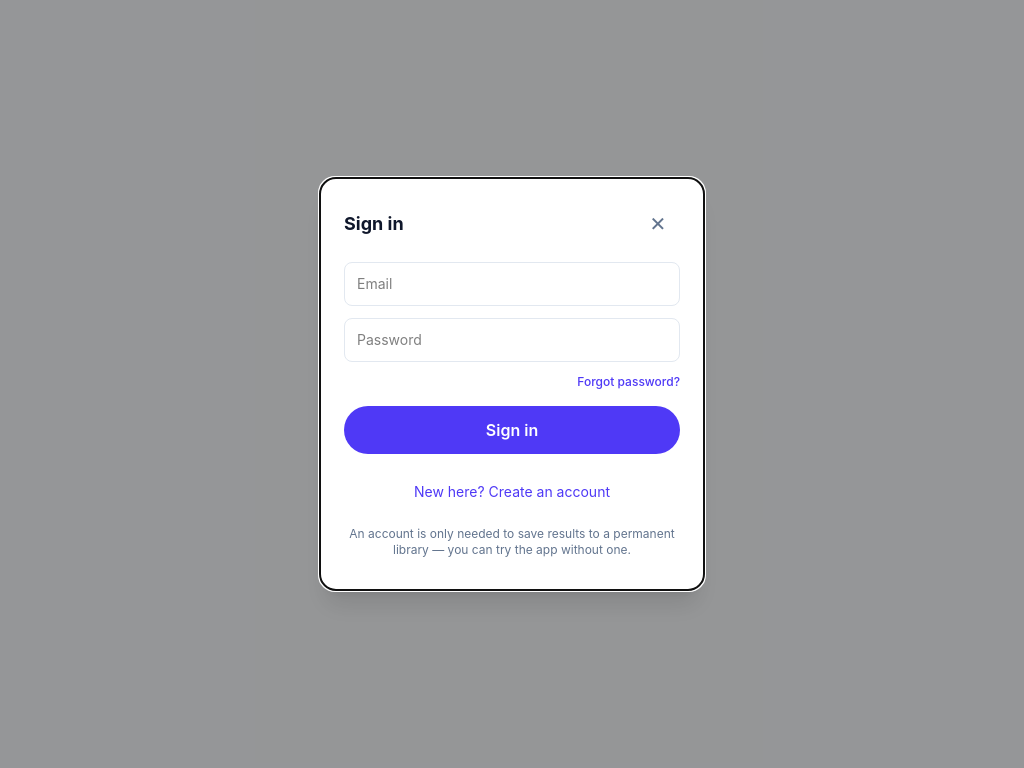
Scenario: AuthModal — forgot password › submits the email and shows a generic confirmation, never claiming whether the account exists
Click the button "Forgot password?" at (629, 382), box 577,374 -> 680,390
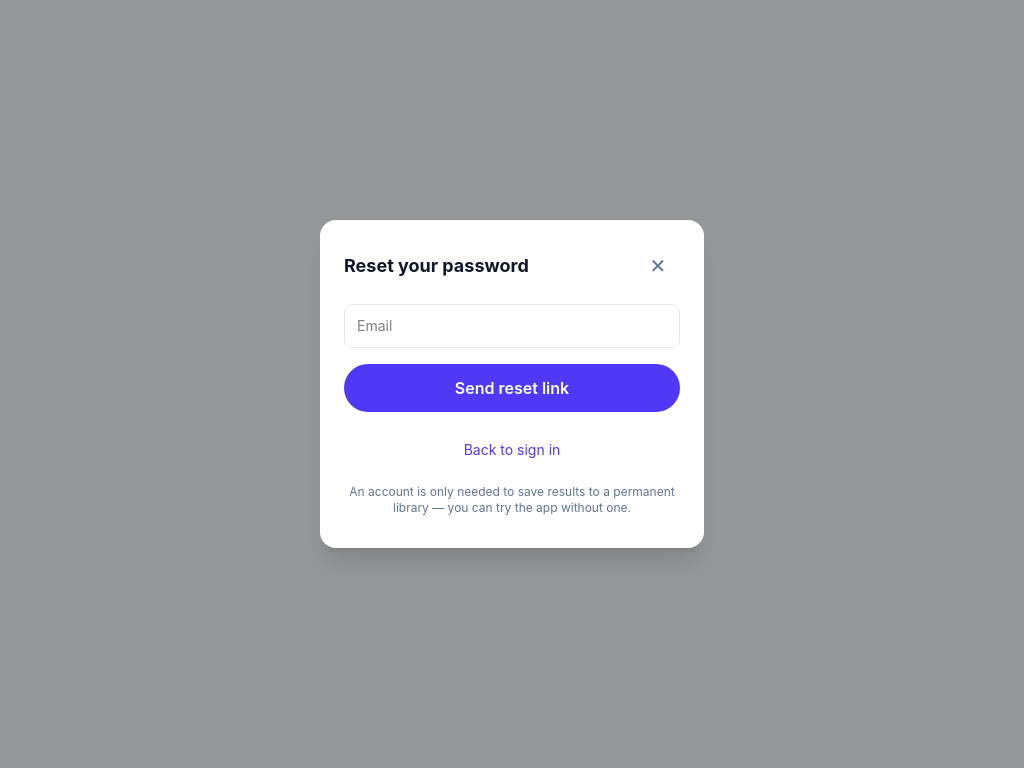
Type "person@example.com" into the field with placeholder "Email" at (512, 326), box 344,304 -> 680,348
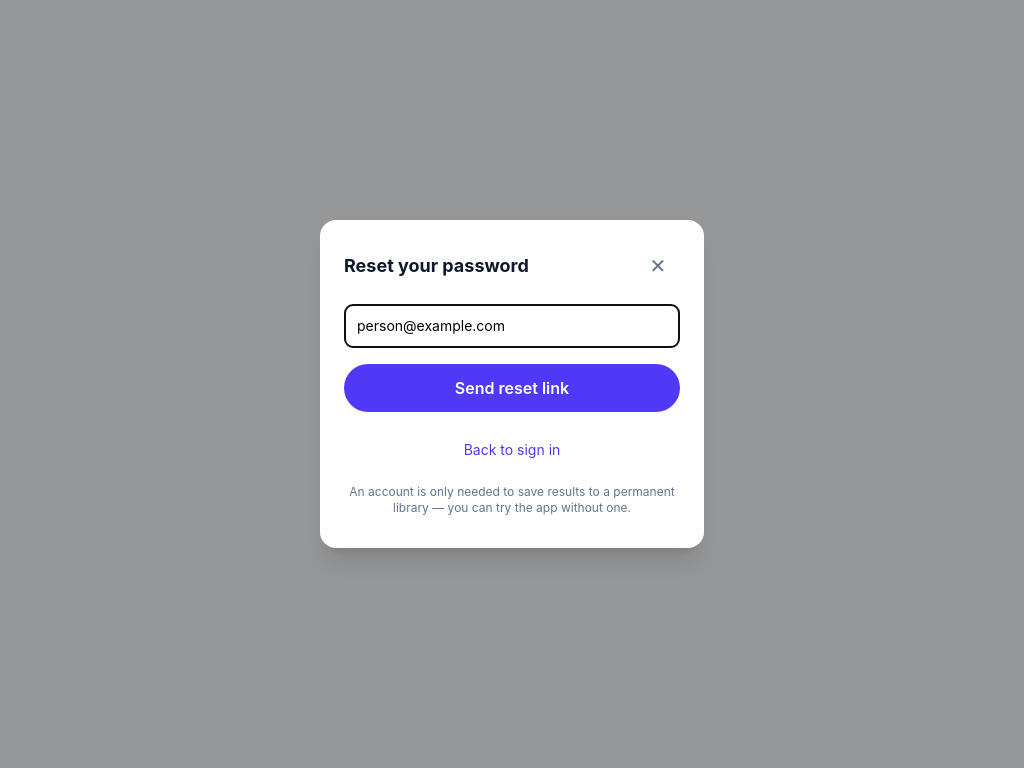
Click the button "Send reset link" at (512, 388), box 344,364 -> 680,412
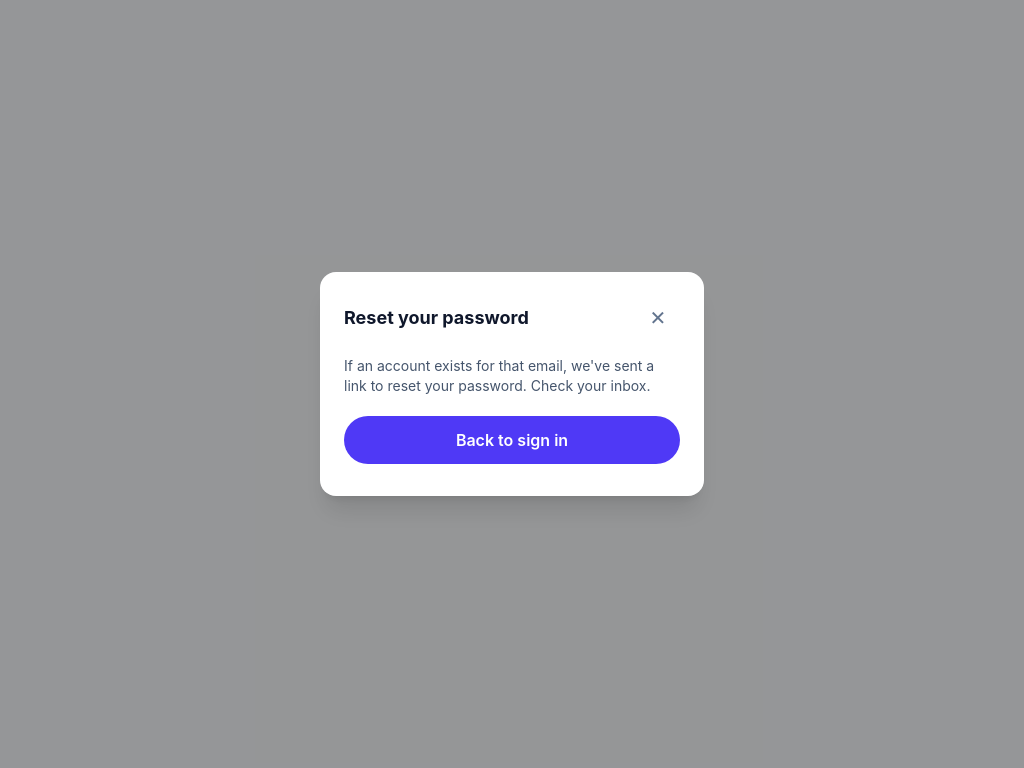
Expected: the text "If an account exists for that email" is shown, 344,357 -> 654,394
